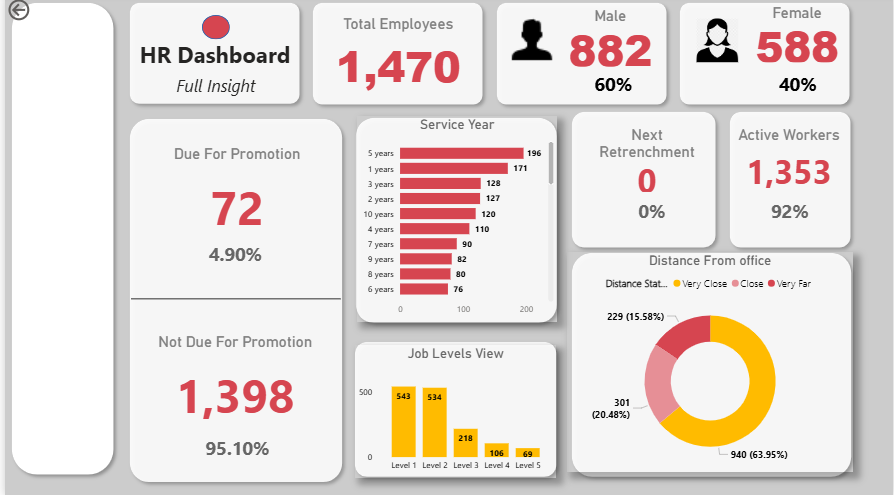

What the dashboard file says about the page in this screenshot:
{"tool":"powerbi","page":{"name":"Page 1","canvas":[1280,720],"ordinal":0},"visuals":[{"type":"shape","box":[0,0,166,699],"z":0},{"type":"shape","box":[170,0,264,165],"z":1000},{"type":"shape","box":[434,0,264,166],"z":2000},{"type":"shape","box":[698,0,264,166],"z":3000},{"type":"shape","box":[962,0,264,166],"z":4000},{"type":"shape","box":[170,166.4,325.5,542.7],"z":5000},{"type":"shape","box":[496,166,309,315],"z":6000},{"type":"shape","box":[494,488,310,214],"z":7000},{"type":"shape","box":[806,360,422,342],"z":8000},{"type":"shape","box":[1033.3,156.7,193.3,215],"z":9000},{"type":"shape","box":[806.7,156.7,226.7,215],"z":10000},{"type":"textbox","box":[185,56.2,236.2,52.5],"z":11000},{"type":"textbox","box":[185.5,106.4,235.5,59.1],"z":12000},{"type":"shape","box":[283.3,26.7,40,35],"z":13000},{"type":"card","title":"Total Employees","fields":{"Values":["All Measures .Total Emp"]},"box":[443.5,26.9,245.2,114.2],"z":14000},{"type":"card","title":"Male","fields":{"Values":["All Measures .Male"]},"box":[777,16,188,91],"z":15000},{"type":"card","title":"Female","fields":{"Values":["All Measures .Female"]},"box":[1072.9,11.4,135.7,88.6],"z":16000},{"type":"image","box":[710.6,15.1,95.7,90.7],"z":17000},{"type":"image","box":[990,27,70,73],"z":18000},{"type":"card","fields":{"Values":["All Measures .Male %"]},"box":[808.8,92.5,132.5,71.2],"z":19000},{"type":"actionButton","box":[0,0,100,40],"z":20000},{"type":"card","fields":{"Values":["All Measures .% Female"]},"box":[1076.2,92.5,131.2,71.2],"z":21000},{"type":"card","title":"Not Due For Promotion","fields":{"Values":["All Measures .Not Due"]},"box":[181.7,485,300,145],"z":22000},{"type":"card","fields":{"Values":["All Measures .% not due"]},"box":[185,585,300,135],"z":23000},{"type":"card","title":" Due For Promotion","fields":{"Values":["All Measures .Due For Promotion"]},"box":[185,215,300,145],"z":24000},{"type":"card","fields":{"Values":["All Measures .% Due For Promotion"]},"box":[181.7,303.3,300,136.7],"z":25000},{"type":"shape","box":[182,432,302,8],"z":26000},{"type":"barChart","title":" Service Year","fields":{"Category":["HR Analytics Data.Service Year"],"Y":["All Measures .Total Emp"]},"box":[506.7,173.1,288.5,296.2],"z":27000},{"type":"clusteredColumnChart","title":" Job Levels View","fields":{"Category":["HR Analytics Data.Job Level"],"Y":["All Measures .Total Emp"]},"box":[504.3,502.9,290,191.4],"z":28000},{"type":"card","title":"Active Workers","fields":{"Values":["All Measures .On Service"]},"box":[1037.1,187.1,184.3,100],"z":29000},{"type":"card","fields":{"Values":["All Measures .% Active workers"]},"box":[1064.3,275.7,131.4,70],"z":30000},{"type":"card","title":"Next Retrenchment","fields":{"Values":["All Measures .Due for retrenchment"]},"box":[823.3,186.7,201.7,100],"z":31000},{"type":"card","fields":{"Values":["All Measures .% Due for retirment"]},"box":[865,275,131.7,70],"z":32000},{"type":"donutChart","title":" Distance From office","fields":{"Y":["All Measures .Total Emp"],"Category":["HR Analytics Data.Distance Status"]},"box":[809.4,369.2,412.2,316.7],"z":33000}]}

Visuals, with their boxes in screenshot pixels (x1, y1, x2, y2), scaled from the page's 1280x720 canvas onto the 894x495 screenshot:
shape: BBox(0, 0, 116, 481)
shape: BBox(119, 0, 303, 113)
shape: BBox(303, 0, 488, 114)
shape: BBox(488, 0, 672, 114)
shape: BBox(672, 0, 856, 114)
shape: BBox(119, 114, 346, 488)
shape: BBox(346, 114, 562, 331)
shape: BBox(345, 336, 562, 483)
shape: BBox(563, 248, 858, 483)
shape: BBox(722, 108, 857, 256)
shape: BBox(563, 108, 722, 256)
textbox: BBox(129, 39, 294, 75)
textbox: BBox(130, 73, 294, 114)
shape: BBox(198, 18, 226, 42)
"Total Employees" card: BBox(310, 18, 481, 97)
"Male" card: BBox(543, 11, 674, 74)
"Female" card: BBox(749, 8, 844, 69)
image: BBox(496, 10, 563, 73)
image: BBox(691, 19, 740, 69)
card - All Measures .Male %: BBox(565, 64, 657, 113)
actionButton: BBox(0, 0, 70, 28)
card - All Measures .% Female: BBox(752, 64, 843, 113)
"Not Due For Promotion" card: BBox(127, 333, 336, 433)
card - All Measures .% not due: BBox(129, 402, 339, 494)
" Due For Promotion" card: BBox(129, 148, 339, 248)
card - All Measures .% Due For Promotion: BBox(127, 209, 336, 302)
shape: BBox(127, 297, 338, 302)
" Service Year" barChart: BBox(354, 119, 555, 323)
" Job Levels View" clusteredColumnChart: BBox(352, 346, 555, 477)
"Active Workers" card: BBox(724, 129, 853, 197)
card - All Measures .% Active workers: BBox(743, 190, 835, 238)
"Next Retrenchment" card: BBox(575, 128, 716, 197)
card - All Measures .% Due for retirment: BBox(604, 189, 696, 237)
" Distance From office" donutChart: BBox(565, 254, 853, 472)
